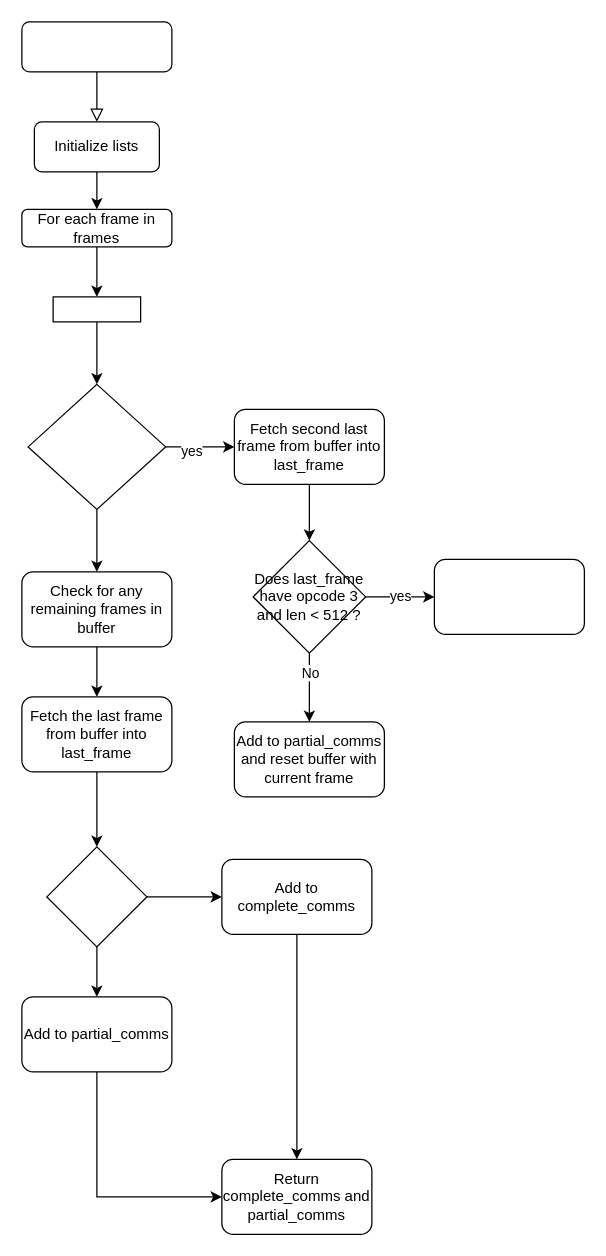
Some shapes in this 606 by 1256 pixel diagram are drawn without their labels. Here are the shapes that lost their labels. From the top down, the centre of each, then its label:
At pixel 96 46: "Start".
At pixel 96 309: "Get Opcode".
At pixel 96 446: "is opcode in [1,2] and len of buffer > 1 ?".
At pixel 508 596: "Add to complete_comms and reset buffer with the current frame".
At pixel 96 896: "Does Last_frame have opcode of 3 and len < 512".
